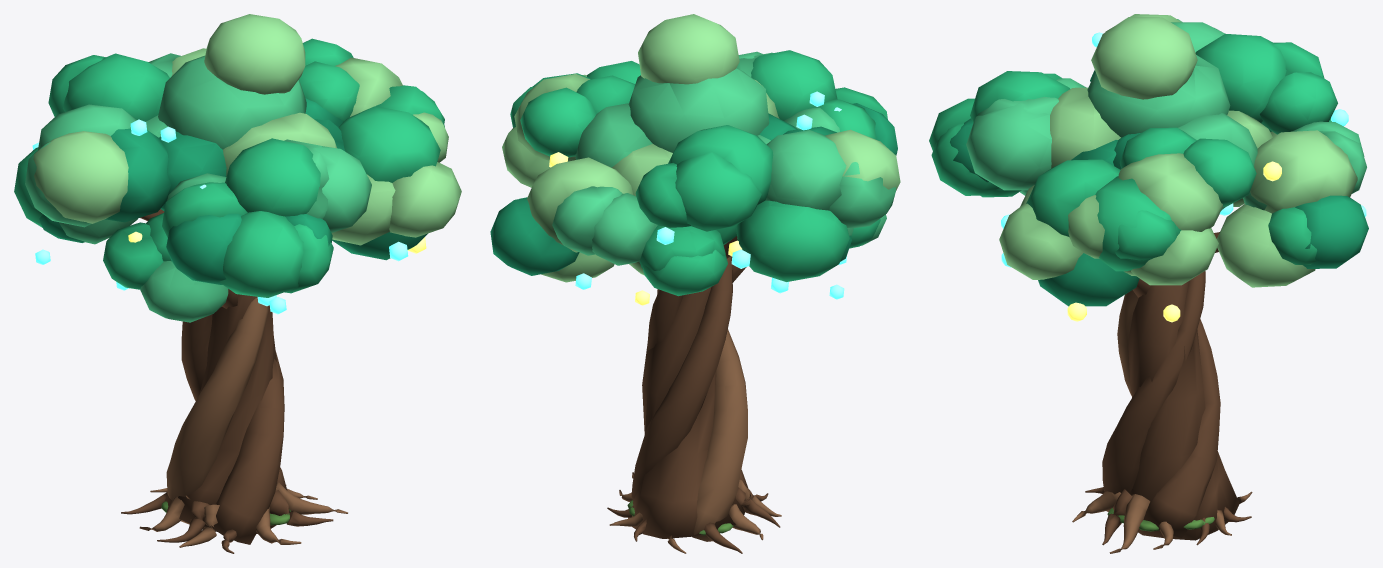
Rendered from arvore.glb.
3 renders of one model, left to right at view 1: azimuth 30°, elevation 25°; view 2: azimuth 150°, elevation 25°; view 3: azimuth 270°, elevation 25°, orthographic. The views are drawn at different scales.
Visible parts, largest first — view 1: arvore_folha1, arvore_folha4, arvore_folha2, arvore_casca, arvore_folha3, arvore_cascaClara, arvore_fruto; view 2: arvore_folha1, arvore_folha2, arvore_casca, arvore_folha4, arvore_cascaClara, arvore_folha3, arvore_fruto, arvore_ouro; view 3: arvore_folha4, arvore_folha1, arvore_casca, arvore_folha2, arvore_folha3, arvore_cascaClara, arvore_ouro, arvore_fruto.
Part boxes in pixels (box(x1,y1,x2,y2)): arvore_folha1: box(14, 38, 444, 297); arvore_folha4: box(33, 14, 461, 245); arvore_folha2: box(25, 53, 371, 322); arvore_casca: box(121, 209, 333, 553); arvore_folha3: box(39, 98, 427, 284); arvore_cascaClara: box(139, 297, 347, 547); arvore_fruto: box(32, 119, 408, 314); arvore_folha1: box(510, 50, 887, 296); arvore_folha2: box(552, 51, 895, 265); arvore_casca: box(607, 236, 780, 553); arvore_folha4: box(502, 14, 900, 282); arvore_cascaClara: box(609, 329, 781, 553); arvore_folha3: box(490, 103, 897, 275); arvore_fruto: box(575, 91, 846, 299); arvore_ouro: box(549, 152, 742, 305); arvore_folha4: box(999, 14, 1357, 287); arvore_folha1: box(929, 33, 1337, 271); arvore_casca: box(1085, 232, 1251, 545); arvore_folha2: box(966, 19, 1366, 210); arvore_folha3: box(950, 70, 1368, 306); arvore_cascaClara: box(1072, 290, 1252, 553); arvore_ouro: box(1067, 161, 1281, 322); arvore_fruto: box(1001, 32, 1366, 267).
Size of the model in its own units: 77.36 by 95.23 by 75.29.
